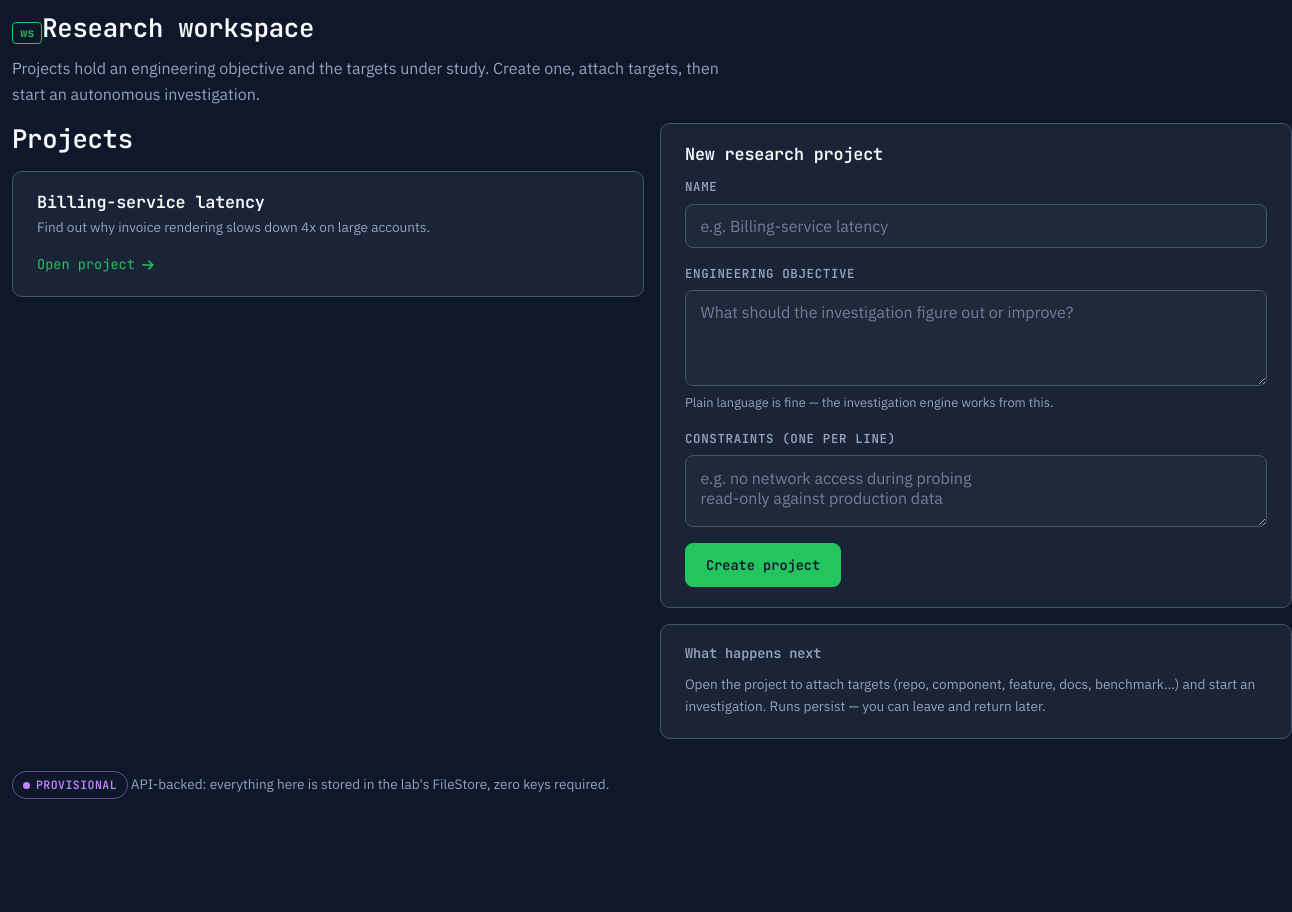
WorkspacePage › creates a project through POST /api/projects and lists it
Expected: the heading "Billing-service latency" is shown, [37,191,265,213]
In the field labelled "Name": (976, 226) [685,204,1267,248], type "Fresh project"
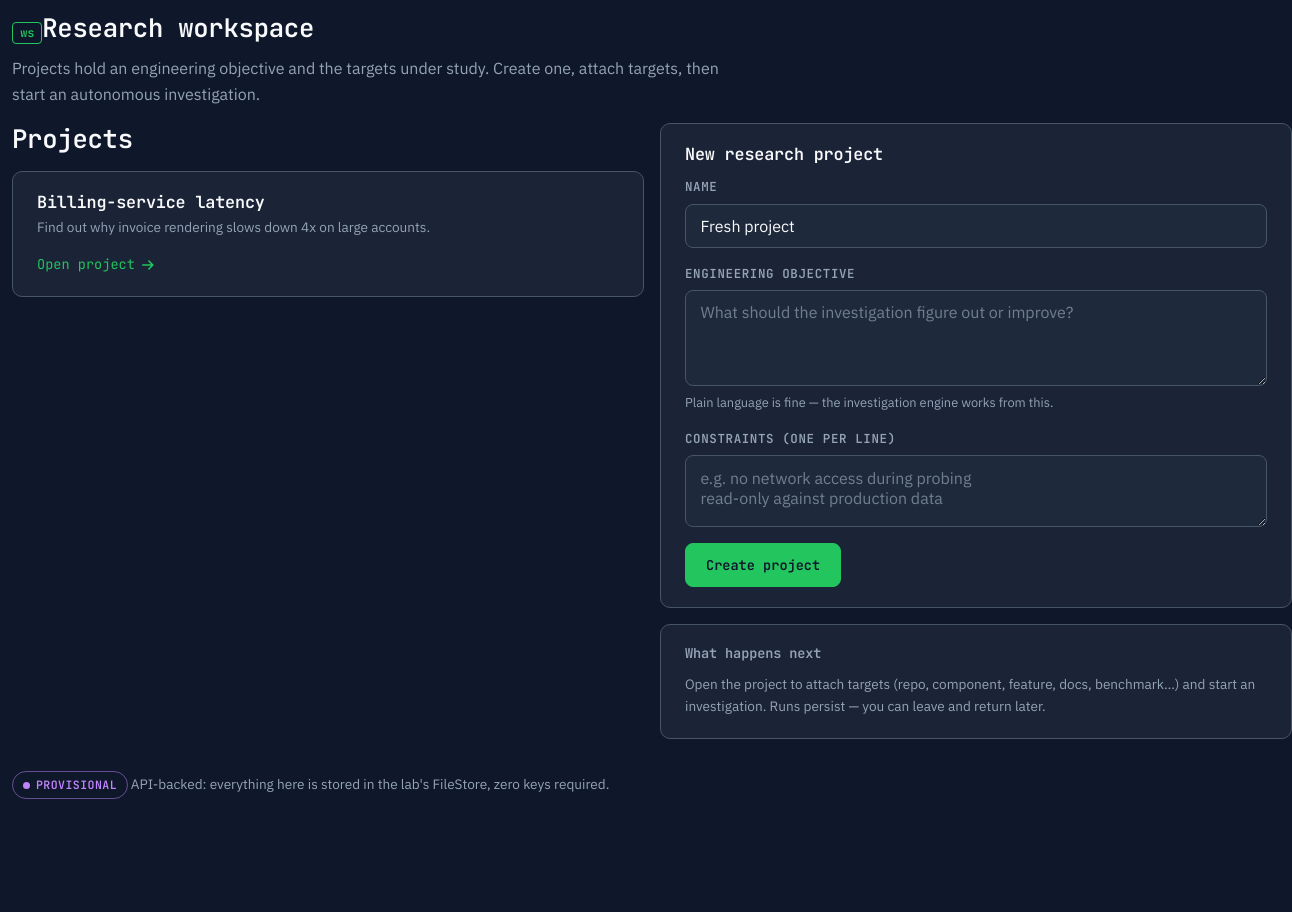
In the text box labelled "Engineering objective": (976, 338) [685,290,1267,386], type "Learn how the lab handles a new objective."
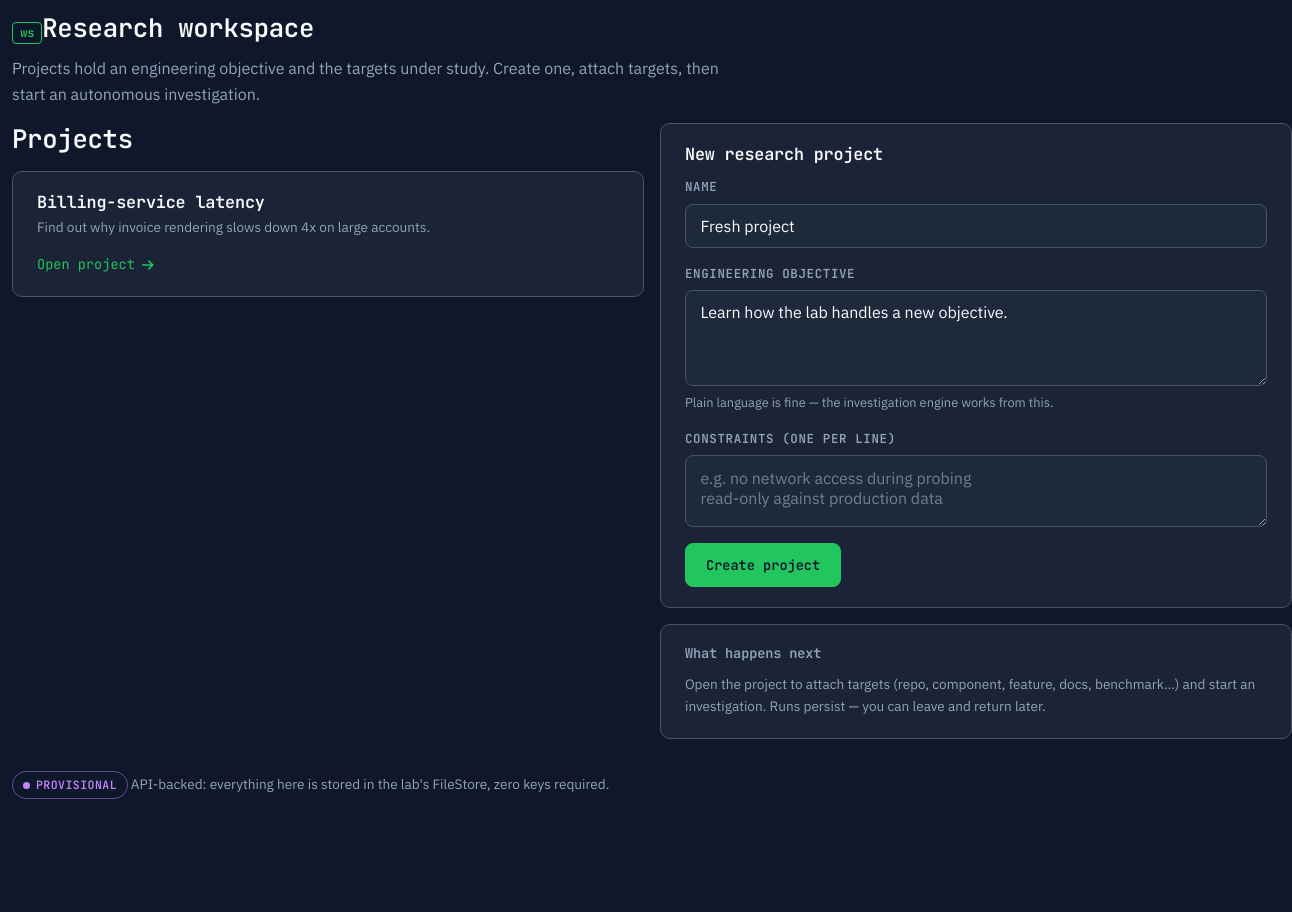
Submit the form named "Create a research project", box [660,123,1291,608]
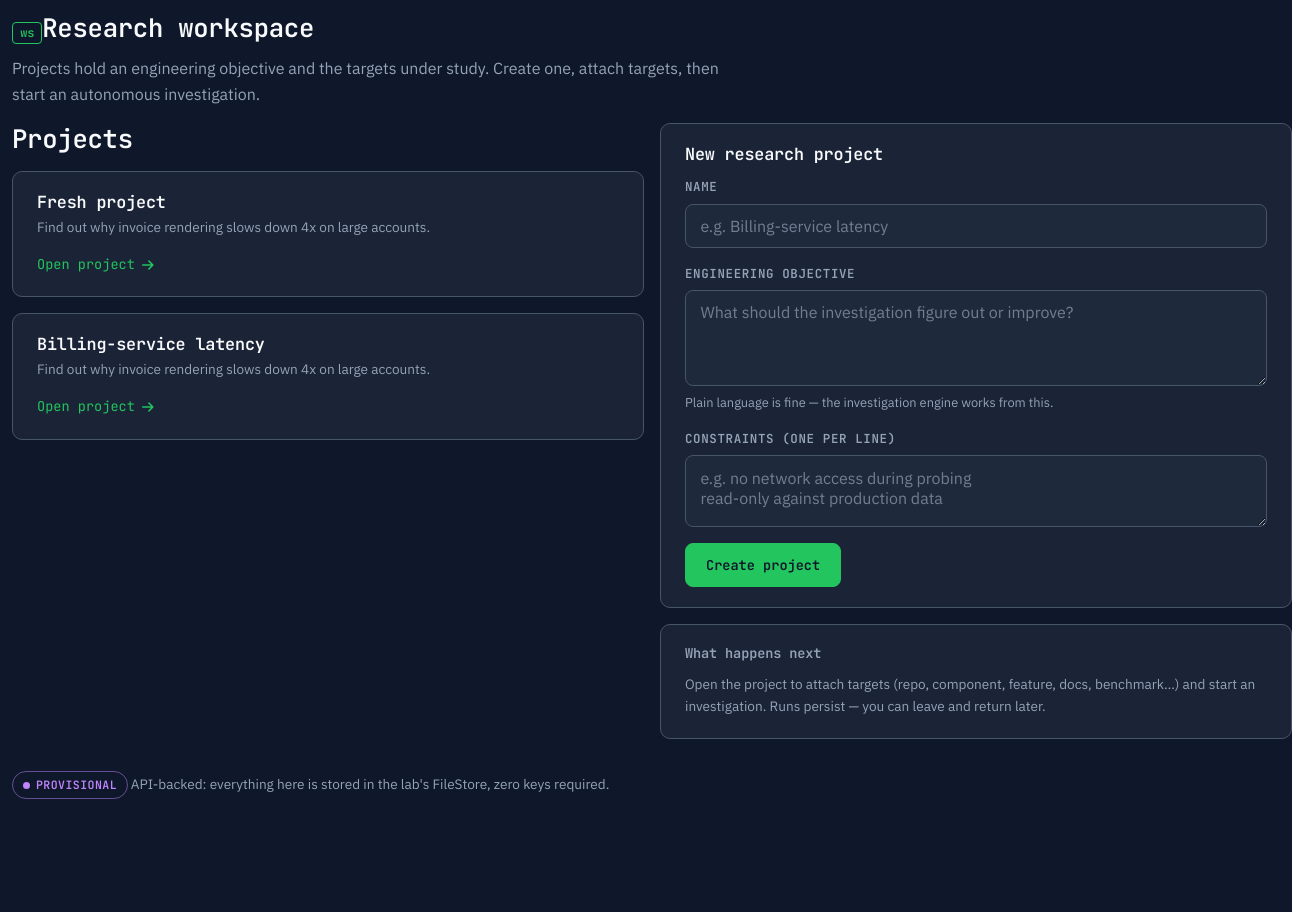
Now the heading "Fresh project" is shown, box [37,191,166,213]
